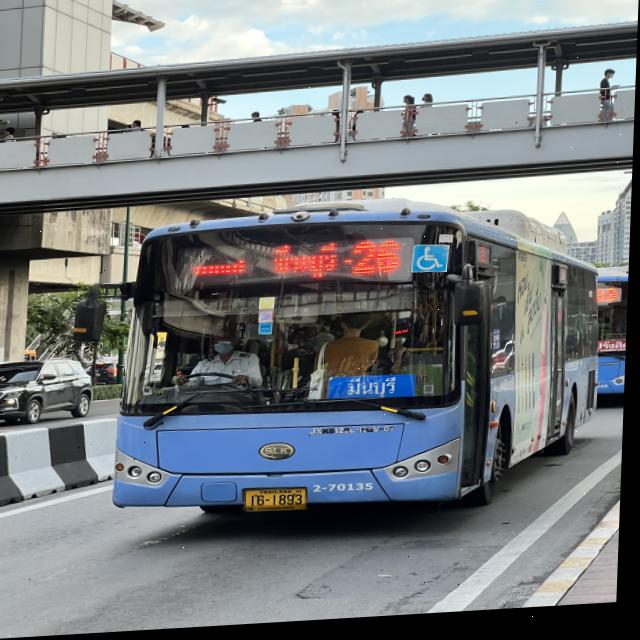BMTA-bus: (115, 211, 602, 521), (598, 270, 631, 412)
Bus Line Number: (350, 236, 410, 284), (600, 293, 625, 312)
Bus Side Number: (313, 480, 382, 502)
Destination Sign: (331, 376, 418, 407), (599, 346, 629, 361)
